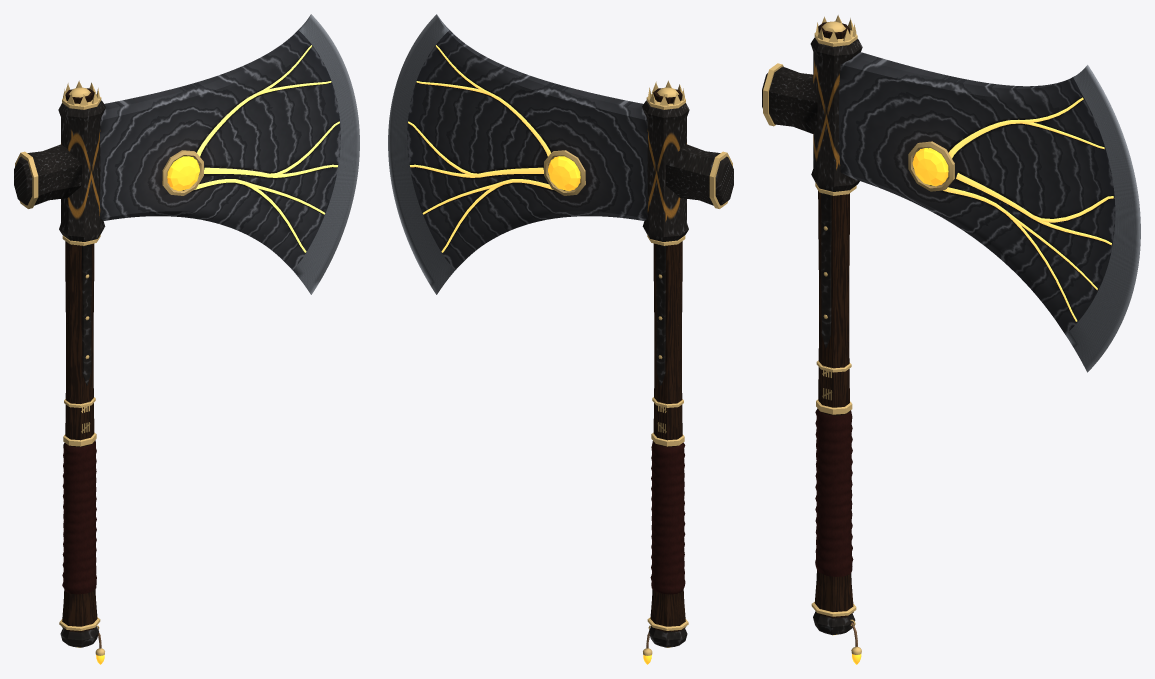
File: axe.glb
The picture shows the model from 3 angles, left to right: view 1: azimuth 30°, elevation 25°; view 2: azimuth 150°, elevation 25°; view 3: azimuth 330°, elevation 25°; orthographic projection. The views are drawn at different scales.
Parts seen in each view (by area): view 1: Head_Blade, Head_CuttingEdge, Haft_Ironash, Grip_LeatherWrap, Head_Socket, Head_Poll, Veins_Gold, Veins_Groove, Langets, Heart_Amber, Heart_Bezel, Pommel; view 2: Head_Blade, Head_CuttingEdge, Haft_Ironash, Grip_LeatherWrap, Head_Socket, Head_Poll, Veins_Gold, Veins_Groove, Langets, Heart_Amber, Heart_Bezel, Pommel; view 3: Head_Blade, Head_CuttingEdge, Haft_Ironash, Grip_LeatherWrap, Head_Socket, Veins_Gold, Veins_Groove, Head_Poll, Langets, Heart_Amber, Heart_Bezel, Pommel.
Boxes of the visible parts, bbox=[...] form: Head_Blade: bbox=[100, 30, 340, 269]; Head_CuttingEdge: bbox=[291, 14, 359, 294]; Haft_Ironash: bbox=[61, 88, 97, 632]; Grip_LeatherWrap: bbox=[62, 440, 96, 594]; Head_Socket: bbox=[58, 100, 105, 241]; Head_Poll: bbox=[14, 144, 81, 205]; Veins_Gold: bbox=[194, 45, 339, 252]; Veins_Groove: bbox=[190, 44, 339, 252]; Langets: bbox=[82, 244, 91, 385]; Heart_Amber: bbox=[167, 156, 199, 191]; Heart_Bezel: bbox=[162, 150, 203, 195]; Pommel: bbox=[60, 626, 98, 647]; Head_Blade: bbox=[407, 30, 647, 269]; Head_CuttingEdge: bbox=[388, 14, 456, 294]; Haft_Ironash: bbox=[650, 88, 686, 632]; Grip_LeatherWrap: bbox=[650, 441, 685, 594]; Head_Socket: bbox=[642, 100, 689, 241]; Head_Poll: bbox=[666, 144, 733, 205]; Veins_Gold: bbox=[408, 45, 553, 252]; Veins_Groove: bbox=[408, 44, 557, 252]; Langets: bbox=[656, 244, 665, 385]; Heart_Amber: bbox=[548, 156, 580, 191]; Heart_Bezel: bbox=[544, 150, 585, 195]; Pommel: bbox=[649, 626, 687, 647]; Head_Blade: bbox=[839, 52, 1115, 334]; Head_CuttingEdge: bbox=[1065, 65, 1140, 372]; Haft_Ironash: bbox=[814, 22, 853, 618]; Grip_LeatherWrap: bbox=[815, 408, 853, 576]; Head_Socket: bbox=[810, 37, 862, 191]; Veins_Gold: bbox=[943, 97, 1113, 321]; Veins_Groove: bbox=[940, 96, 1114, 321]; Head_Poll: bbox=[762, 66, 817, 133]; Langets: bbox=[821, 193, 831, 347]; Heart_Amber: bbox=[912, 148, 948, 186]; Heart_Bezel: bbox=[908, 141, 954, 191]; Pommel: bbox=[813, 611, 855, 635].
Bounding box in the file's own units: 0.594 × 1 × 0.0682.
Materials: 11 (7 with a texture image).
